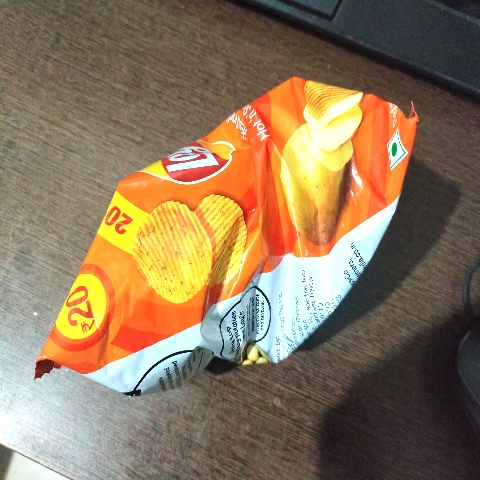lays_orange_pack: (27, 64, 416, 418)
